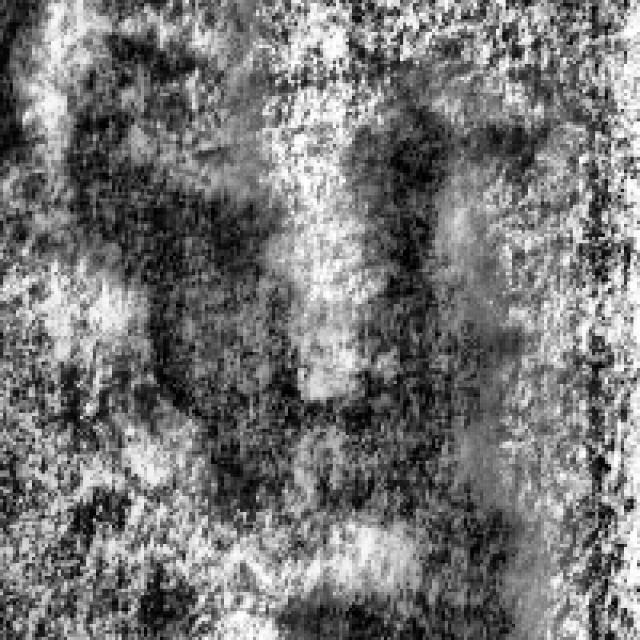Scratches: (52, 26, 294, 473), (317, 102, 502, 634)
